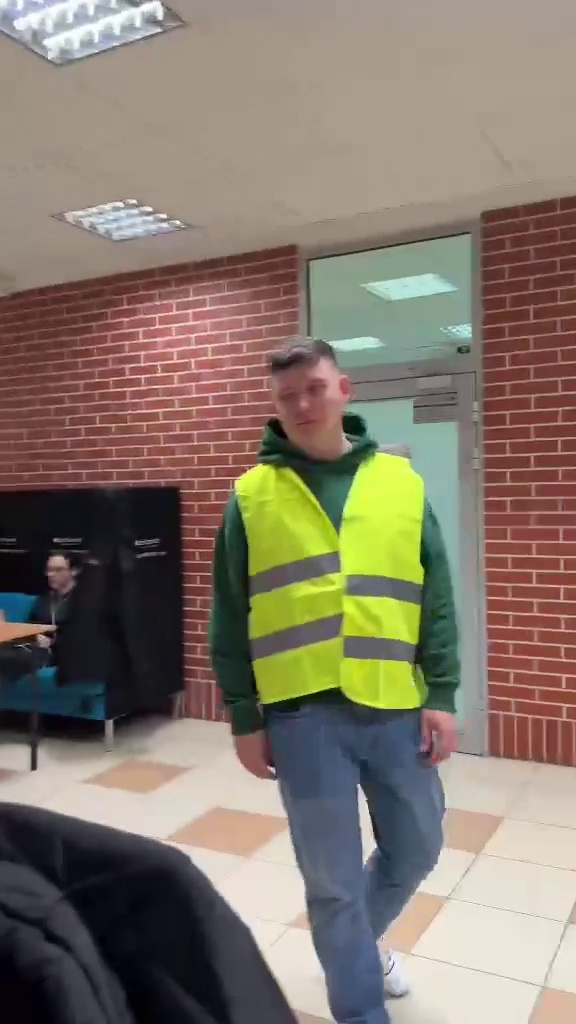vest: (214, 335, 460, 1016)
